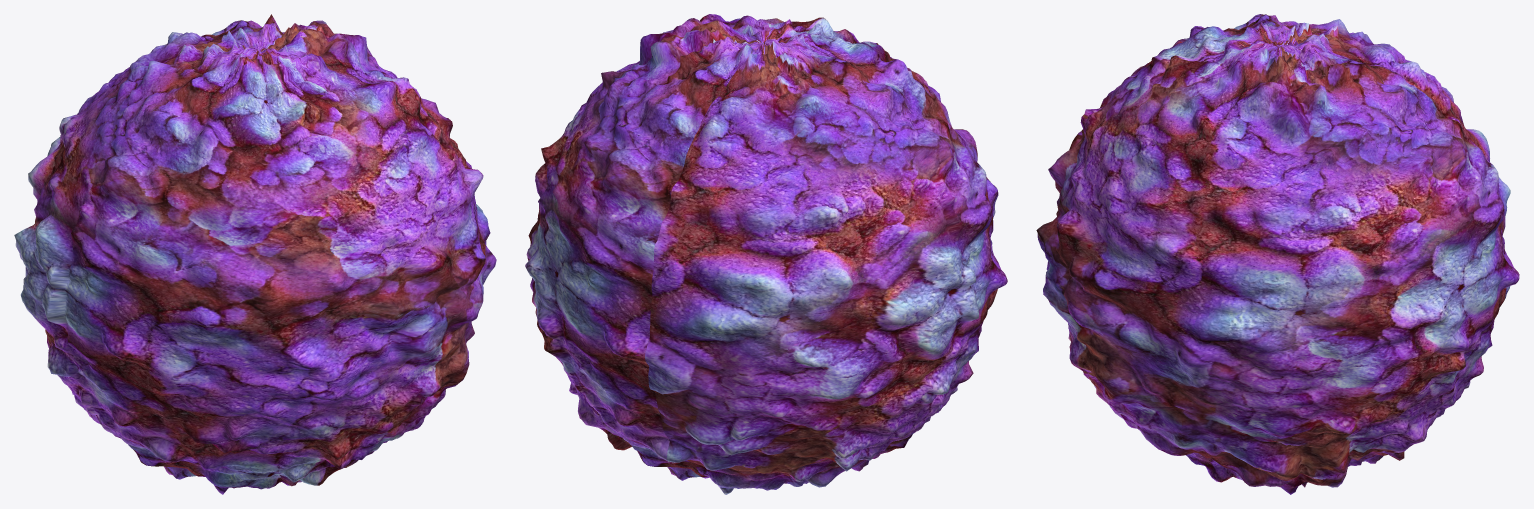
Rendered from rhino-50k.fbx.
3 renders of one model, left to right at view 1: azimuth 30°, elevation 25°; view 2: azimuth 150°, elevation 25°; view 3: azimuth 270°, elevation 25°, orthographic. The views are drawn at different scales.
Visible parts, largest first — view 1: GeoSphere001; view 2: GeoSphere001; view 3: GeoSphere001.
Boxes of the visible parts, x1,y1,x2,y2 form: GeoSphere001: (14,14,496,494); GeoSphere001: (525,14,1007,494); GeoSphere001: (1036,14,1519,494).
Size of the model in its own units: 112 by 112 by 113.
Materials: 1 (1 with a texture image).
